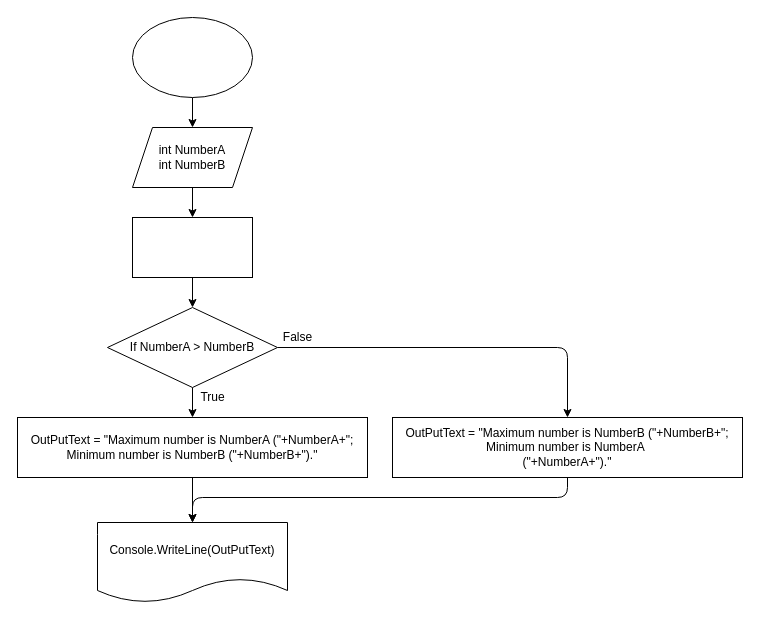
This 760x620 diagram has some shape labels left out. The shapes that lost their labels are listed below. From the top down, each one's centre as x and y in pixels, then its label:
At point 192,57: "START".
At point 192,247: "string OutPutText".
